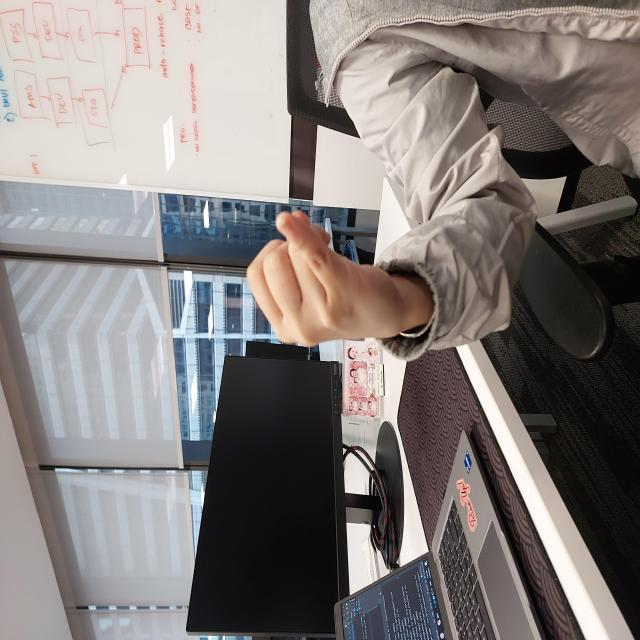J: (291, 246, 430, 394)
